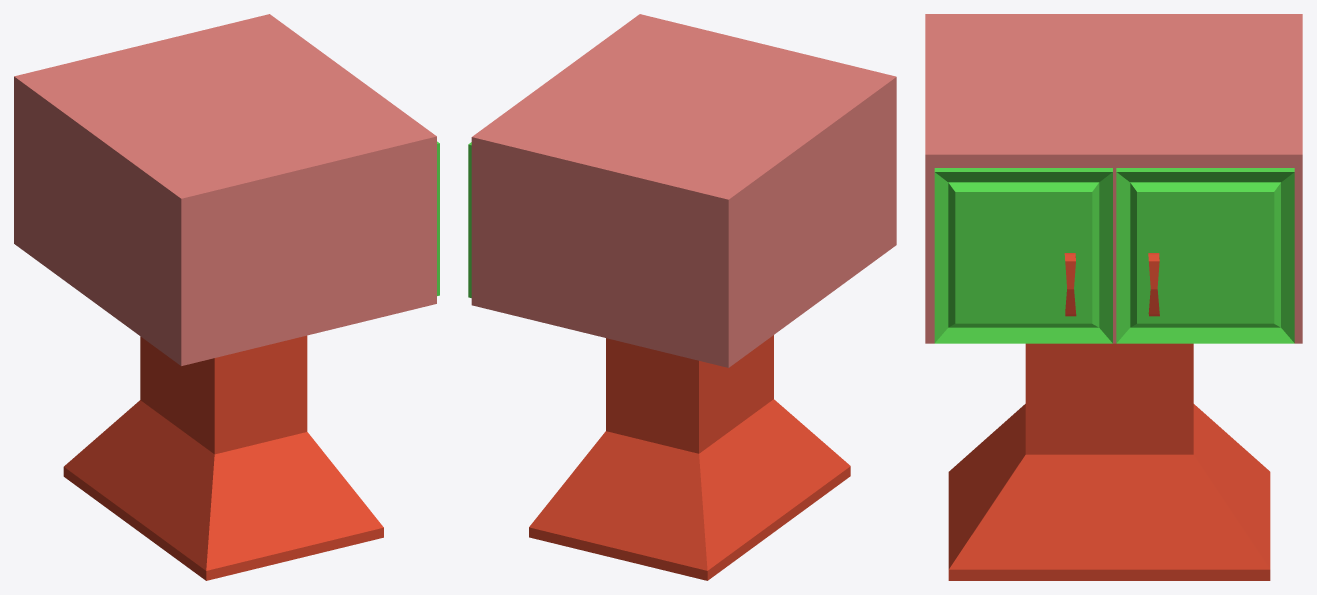
The model's file is kitchencounter5.fbx.
3 views of the same model, side by side, from view 1: azimuth 30°, elevation 25°; view 2: azimuth 150°, elevation 25°; view 3: azimuth 270°, elevation 25° (orthographic). The views are drawn at different scales.
Visible parts, largest first — view 1: cupboard, stove thing; view 2: cupboard, stove thing, doors; view 3: cupboard, stove thing, doors, handles.
Part boxes in pixels (bbox=[...]): cupboard: bbox=[14, 14, 436, 365]; stove thing: bbox=[63, 335, 383, 580]; cupboard: bbox=[471, 14, 896, 367]; stove thing: bbox=[529, 335, 850, 580]; doors: bbox=[468, 142, 471, 297]; cupboard: bbox=[925, 14, 1302, 343]; stove thing: bbox=[948, 343, 1270, 580]; doors: bbox=[934, 168, 1294, 343]; handles: bbox=[1064, 253, 1159, 316].
Bounding box in the file's own units: 188 × 263 × 200.
